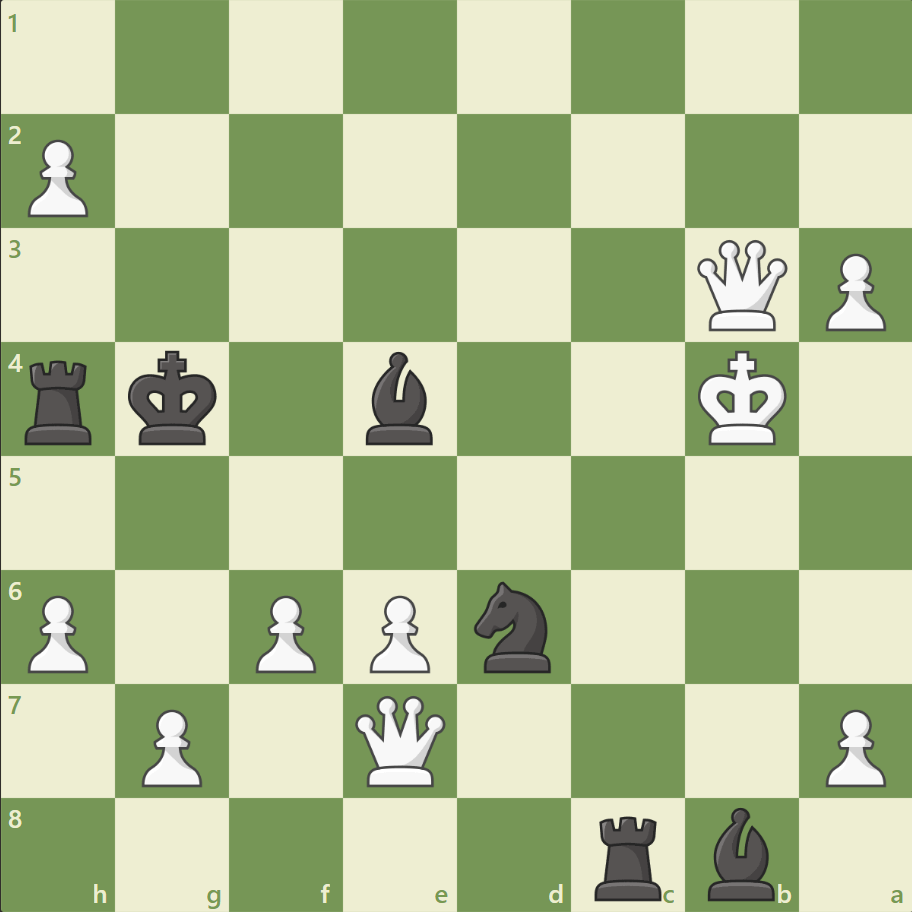K: (692, 344, 792, 452)
P: (133, 700, 208, 791), (247, 586, 322, 677), (20, 586, 95, 677), (20, 132, 95, 223), (815, 700, 889, 791), (361, 586, 435, 677), (815, 246, 889, 337)
Q: (351, 690, 450, 789), (691, 236, 790, 335)
b: (698, 801, 782, 904), (358, 347, 442, 449)
k: (124, 344, 224, 452)
n: (465, 575, 562, 677)
r: (587, 806, 670, 904), (19, 352, 102, 449)
